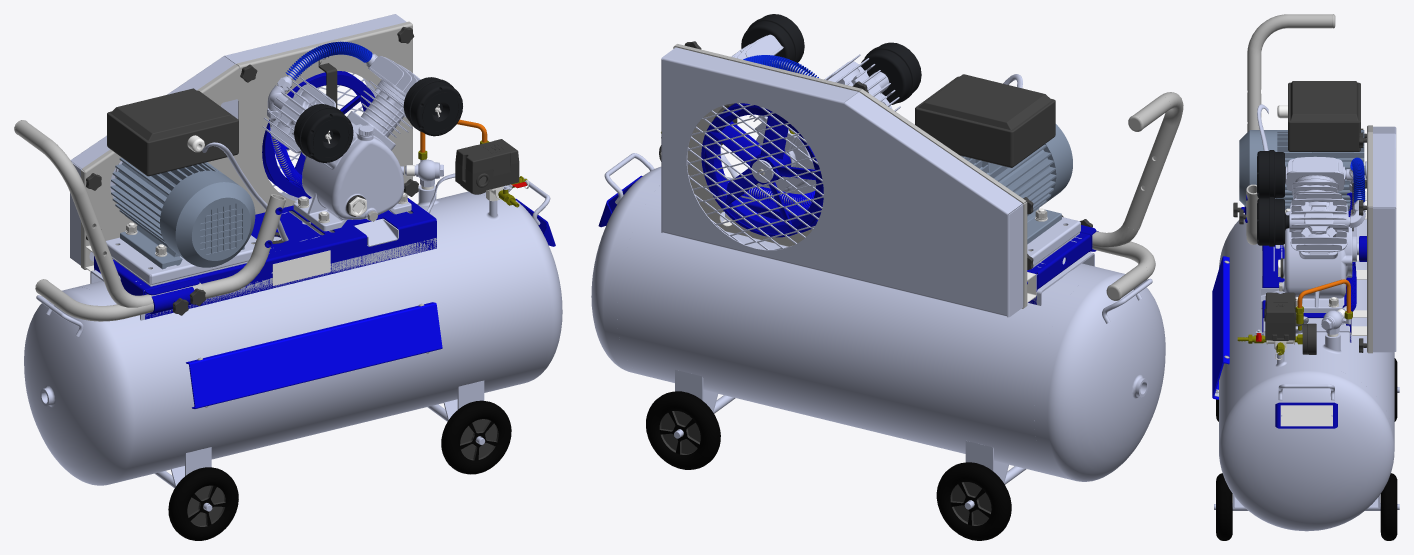
File: compressor.fbx
The picture shows the model from 3 angles, left to right: view 1: azimuth 30°, elevation 25°; view 2: azimuth 150°, elevation 25°; view 3: azimuth 270°, elevation 25°; orthographic projection. The views are drawn at different scales.
Visible parts, largest first — view 1: Split4[1], Chamfer9 (×2), Split3[1], Mirror1 (×2), Cut-Extrude16, Fillet4 (×4), Cut-Extrude20, Mirror4, Extrude7 (×2), Split4[2], Cut-Extrude10, Cut-Revolve1 (×2) (+15 smaller); view 2: Split4[1], Cut-Extrude10, Split3[1], Chamfer9 (×2), Fillet4 (×4), Fillet34, Split4[2], <Luoi mat cao 2ly-500x600>-<Cut-Extrude2>, Cut-Extrude16, Extrude7 (×2), Cut-Extrude20, Cut-Revolve1 (×2) (+5 smaller); view 3: Split4[2], Split4[1], Chamfer9 (×2), Cut-Extrude10, Cut-Revolve1 (×2), Mirror4, Extrude7 (×2), Cut-Extrude1 (×4), Fillet4 (×3), Mirror1, Combine1, Cut-Extrude16 (+12 smaller).
Boxes of the visible parts, left/top/right/bottom form: Split4[1]: left=76, top=185, right=538, bottom=480; Chamfer9 (×2): left=107, top=88, right=255, bottom=269; Split3[1]: left=24, top=287, right=147, bottom=485; Mirror1 (×2): left=186, top=219, right=442, bottom=408; Cut-Extrude16: left=81, top=21, right=412, bottom=269; Fillet4 (×4): left=168, top=400, right=511, bottom=540; Cut-Extrude20: left=94, top=198, right=436, bottom=319; Mirror4: left=293, top=115, right=411, bottom=231; Extrude7 (×2): left=294, top=77, right=462, bottom=162; Split4[2]: left=467, top=177, right=562, bottom=385; Cut-Extrude10: left=70, top=14, right=406, bottom=265; Cut-Revolve1 (×2): left=262, top=56, right=420, bottom=153; Split4[1]: left=617, top=176, right=1110, bottom=476; Cut-Extrude10: left=661, top=47, right=1024, bottom=317; Split3[1]: left=1034, top=270, right=1165, bottom=481; Chamfer9 (×2): left=915, top=74, right=1072, bottom=244; Fillet4 (×4): left=646, top=391, right=1011, bottom=540; Fillet34: left=701, top=103, right=823, bottom=237; Split4[2]: left=591, top=153, right=661, bottom=375; <Luoi mat cao 2ly-500x600>-<Cut-Extrude2>: left=687, top=103, right=823, bottom=249; Cut-Extrude16: left=673, top=44, right=1027, bottom=308; Extrude7 (×2): left=741, top=14, right=921, bottom=104; Cut-Extrude20: left=739, top=196, right=1090, bottom=304; Cut-Revolve1 (×2): left=731, top=34, right=900, bottom=111; Split4[2]: left=1219, top=365, right=1394, bottom=531; Split4[1]: left=1219, top=219, right=1394, bottom=442; Chamfer9 (×2): left=1239, top=81, right=1365, bottom=210; Cut-Extrude10: left=1369, top=126, right=1396, bottom=352; Cut-Revolve1 (×2): left=1285, top=156, right=1348, bottom=251; Mirror4: left=1283, top=228, right=1347, bottom=312; Extrude7 (×2): left=1257, top=150, right=1289, bottom=246; Cut-Extrude1 (×4): left=1213, top=184, right=1337, bottom=428; Fillet4 (×3): left=1216, top=358, right=1397, bottom=540; Mirror1: left=1212, top=256, right=1228, bottom=398; Combine1: left=1265, top=292, right=1295, bottom=340; Cut-Extrude16: left=1367, top=125, right=1372, bottom=353.
Size of the model in its own units: 991 by 358 by 748.
